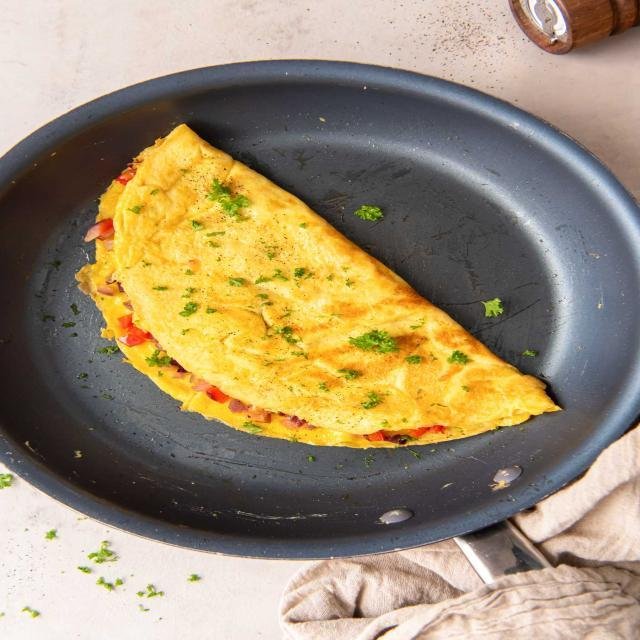telur_ayam_dadar: (75, 122, 564, 449)
